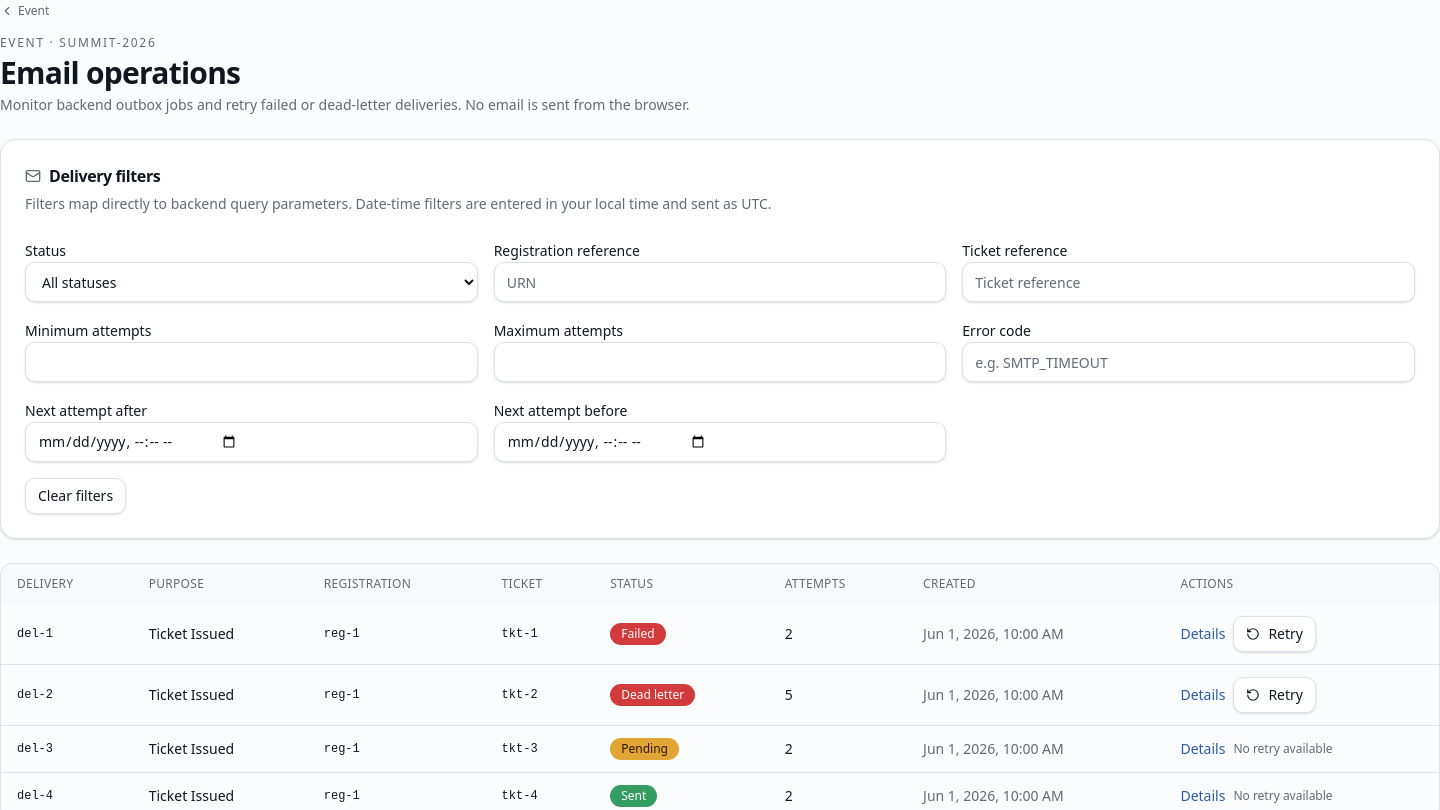
Test: email delivery operations › requires confirmation and shows the backend retry result
Later steps or results of the test are not shown.
expect the text "del-1" is shown: met, box [1,604,133,664]
What coordinates should you click on to do the following:
click the button "Retry" in the row of "del-1"
I would click on:
 (1275, 634)
Its box is [1233,616,1316,652].
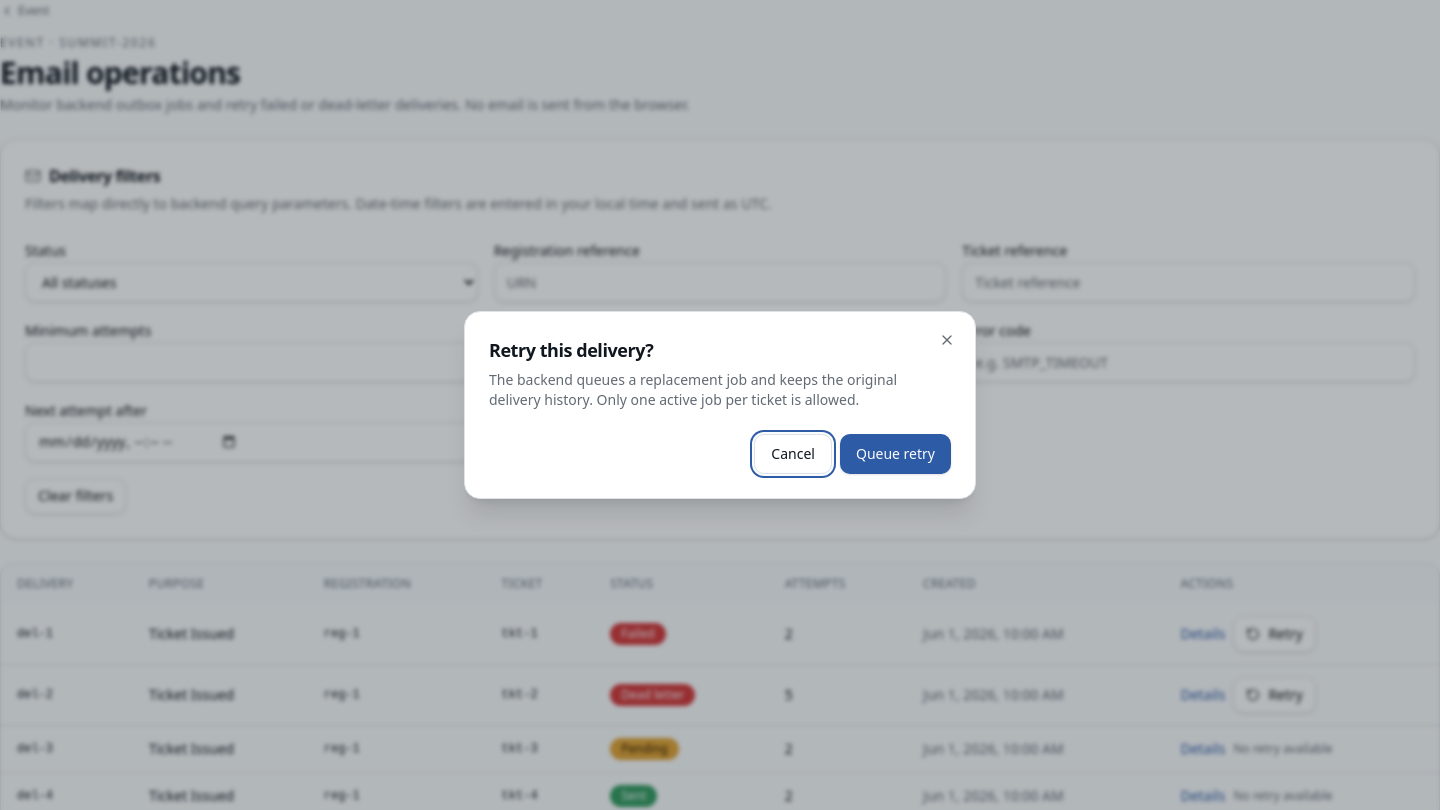
expect the heading "Retry this delivery?" is shown: met, box [489,338,653,362]
